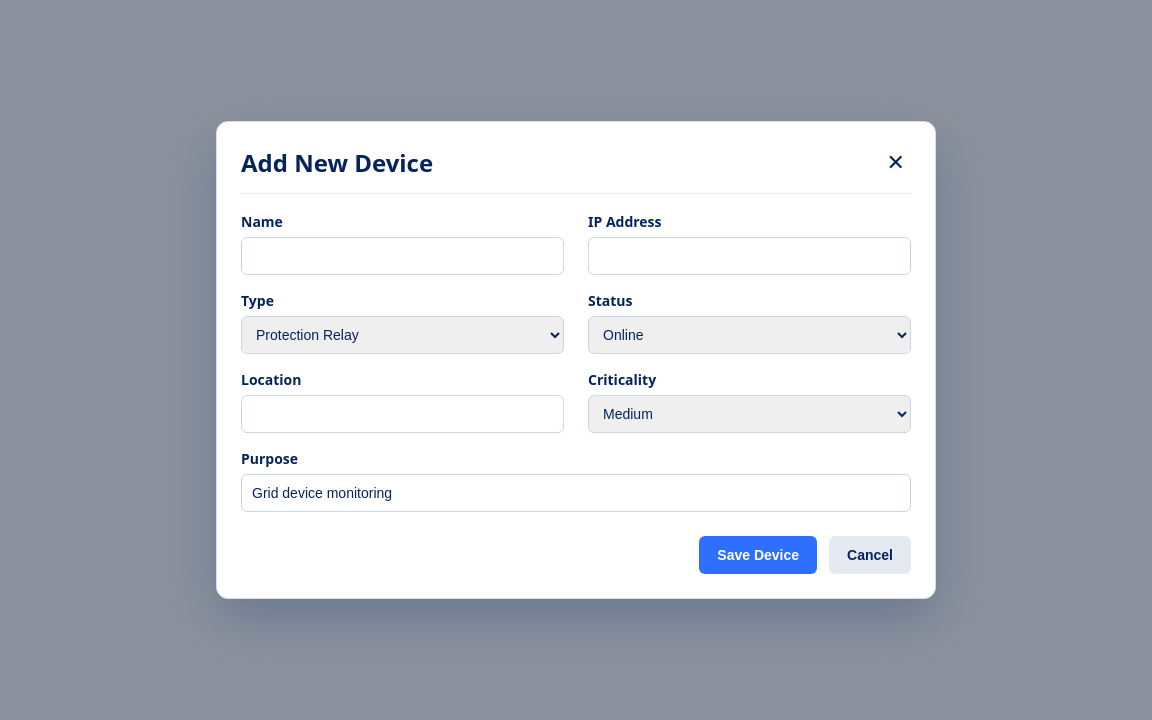
Scenario: shows required name error in add mode
The width and height of the screenshot is (1152, 720).
Step 1. Click the button "Save Device" → (758, 555), box left=699, top=536, right=817, bottom=574
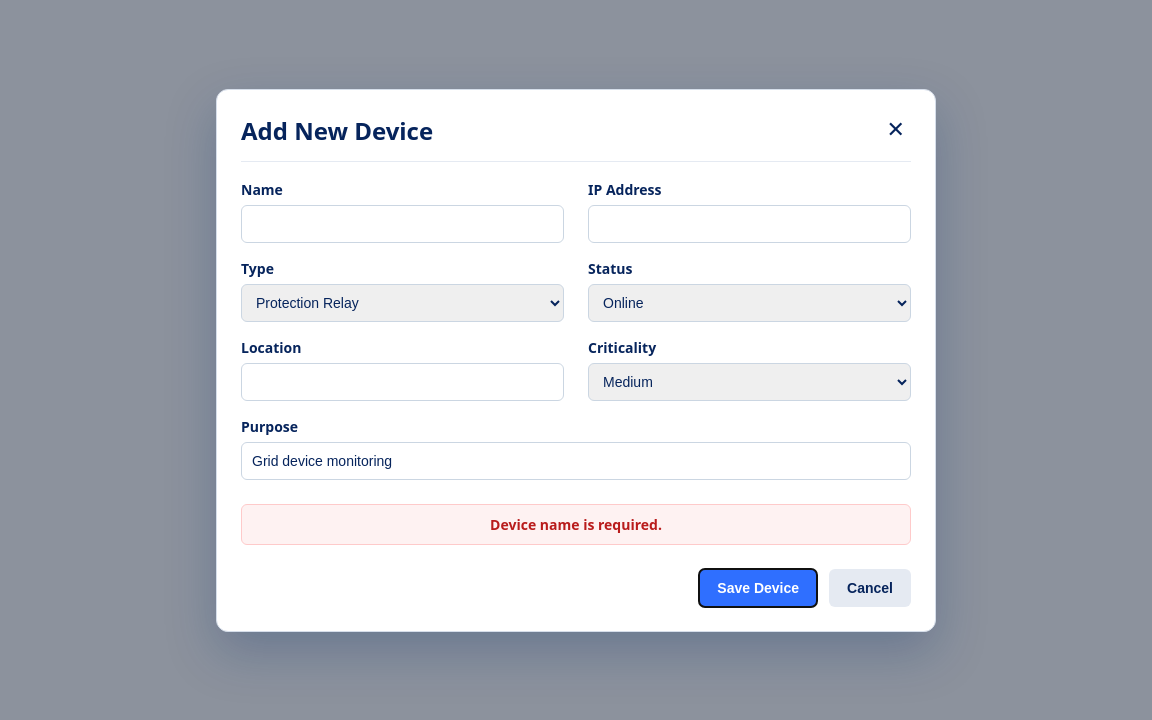
Result: the text "Device name is required." is shown at left=241, top=504, right=911, bottom=544
